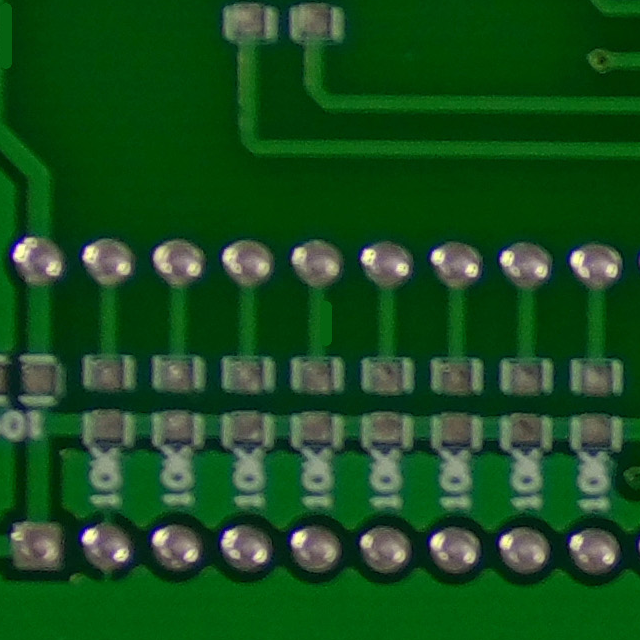spur: (297, 289, 343, 351), (0, 0, 32, 79)
